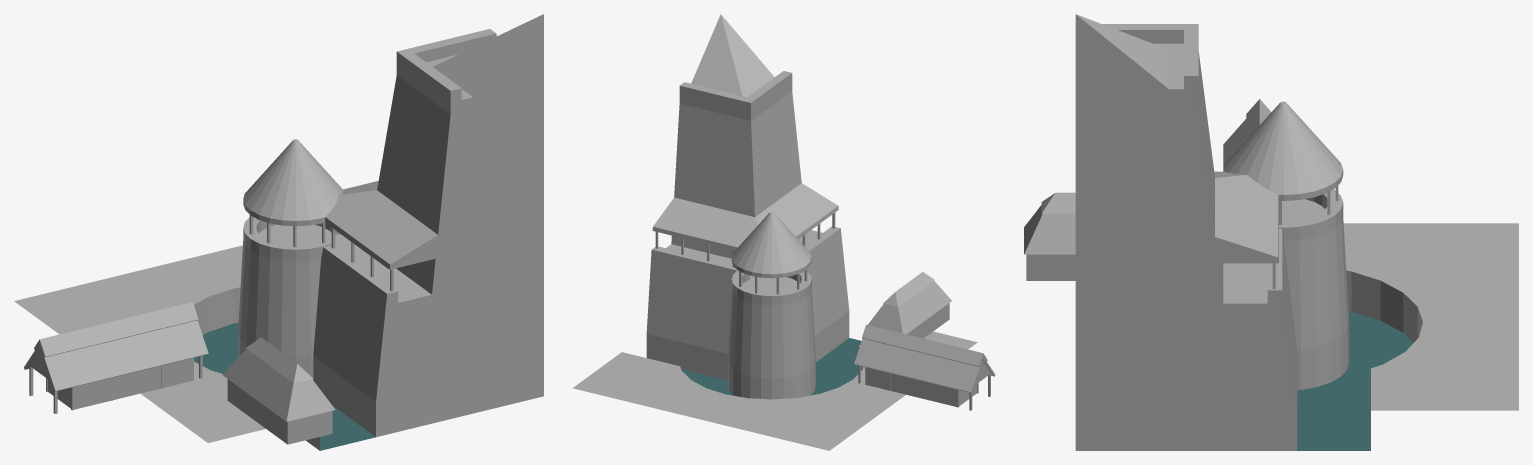
The model's file is wwc1.obj.
The picture shows the model from 3 angles, left to right: view 1: azimuth 30°, elevation 25°; view 2: azimuth 150°, elevation 25°; view 3: azimuth 270°, elevation 25°; orthographic projection. The views are drawn at different scales.
Parts seen in each view (by area): view 1: wwc1; view 2: wwc1; view 3: wwc1.
Part boxes in pixels (x1,y1,x2,y2): wwc1: (14,14,543,450); wwc1: (573,14,995,450); wwc1: (1024,14,1518,450).
Size of the model in its own units: 37.84 by 32.63 by 33.48.
